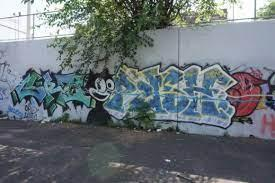graffiti: (11, 66, 261, 121), (258, 69, 275, 136), (0, 61, 16, 116)
